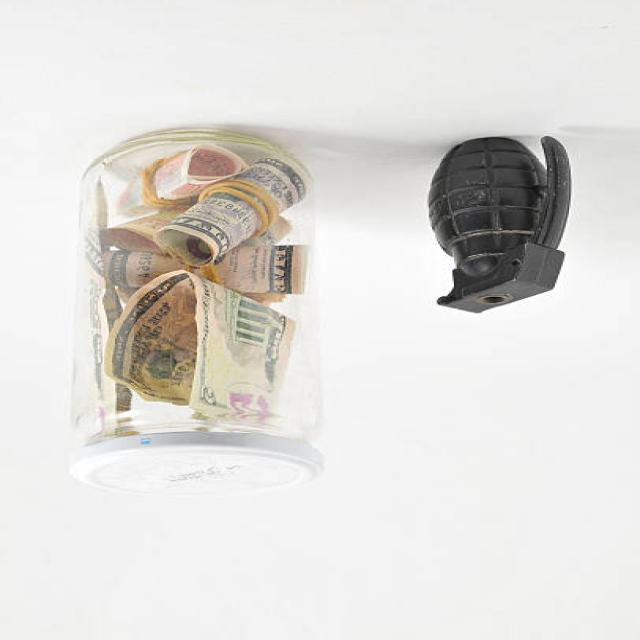grenade: (420, 131, 589, 315)
